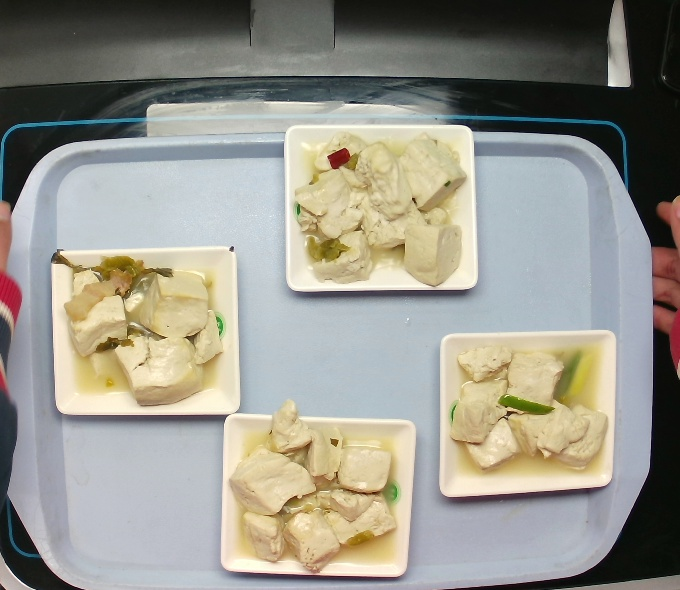wcq-LuDouFu: (226, 396, 405, 579), (283, 120, 465, 292), (43, 242, 227, 409), (446, 330, 608, 480)
